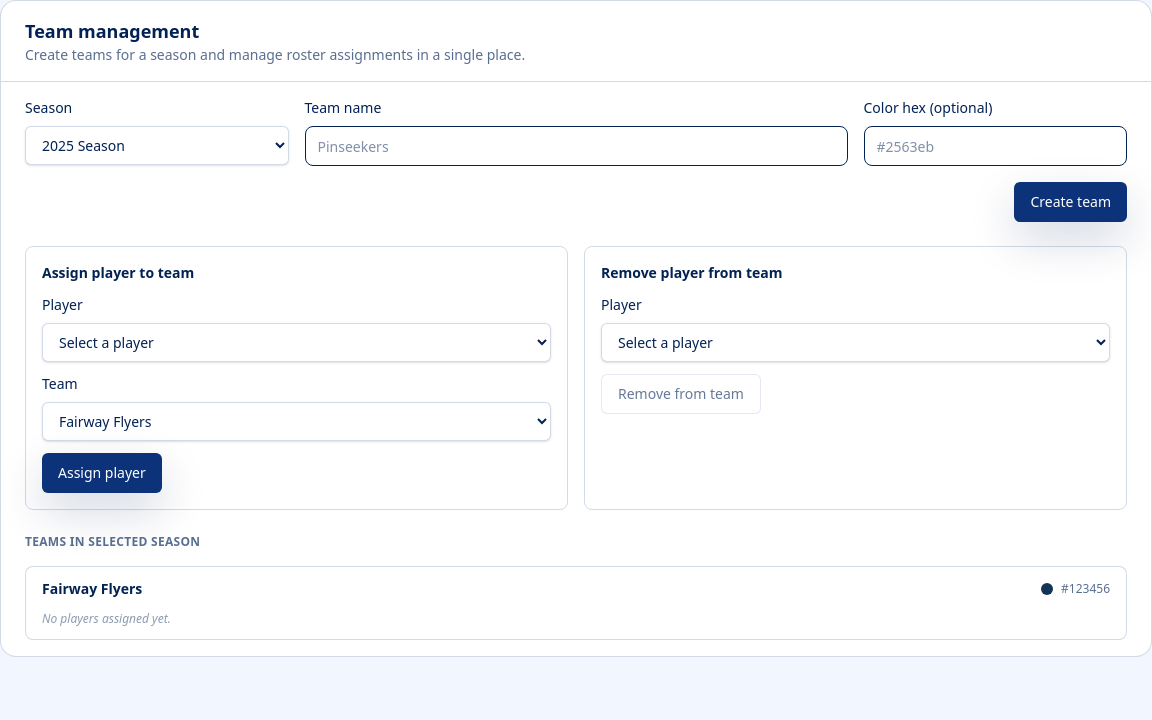
Scenario: TeamManager › creates a team via the admin API
Type "Green Jackets" into the field with placeholder "Pinseekers" at (576,146), box [304,126,848,166]
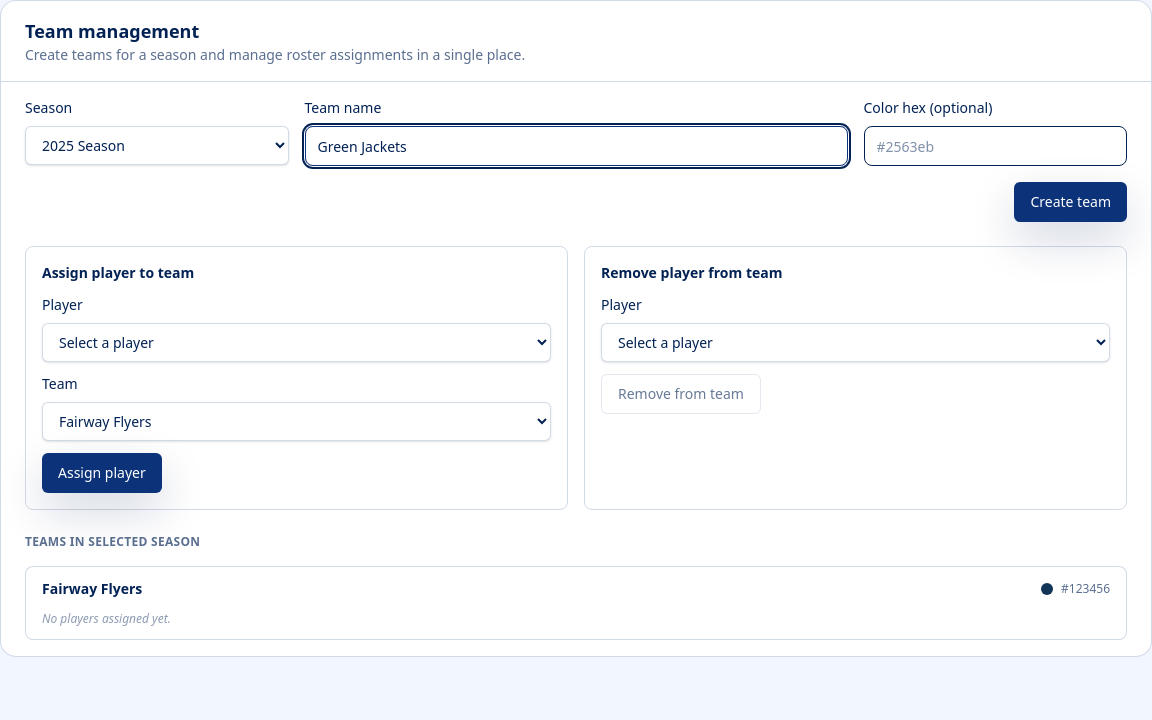
Type "#654321" into the field with placeholder "#2563eb" at (995,146), box [864,126,1127,166]
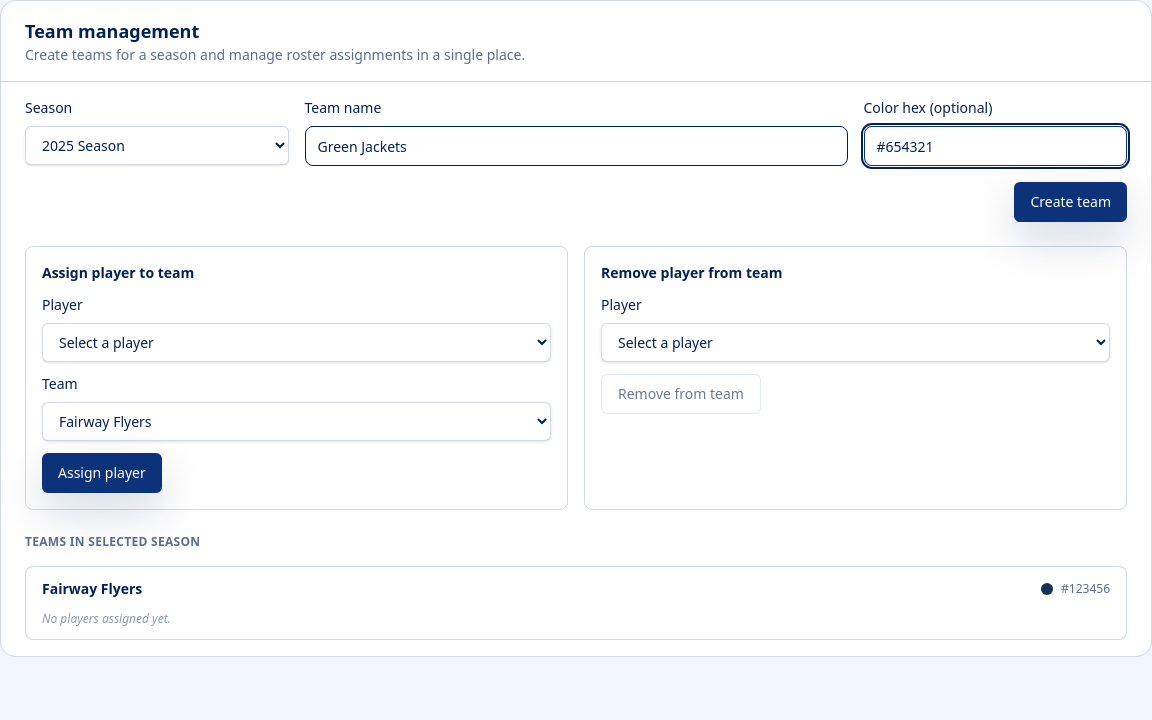
Click the button "Create team" at (1071,202), box [1014,182,1127,222]
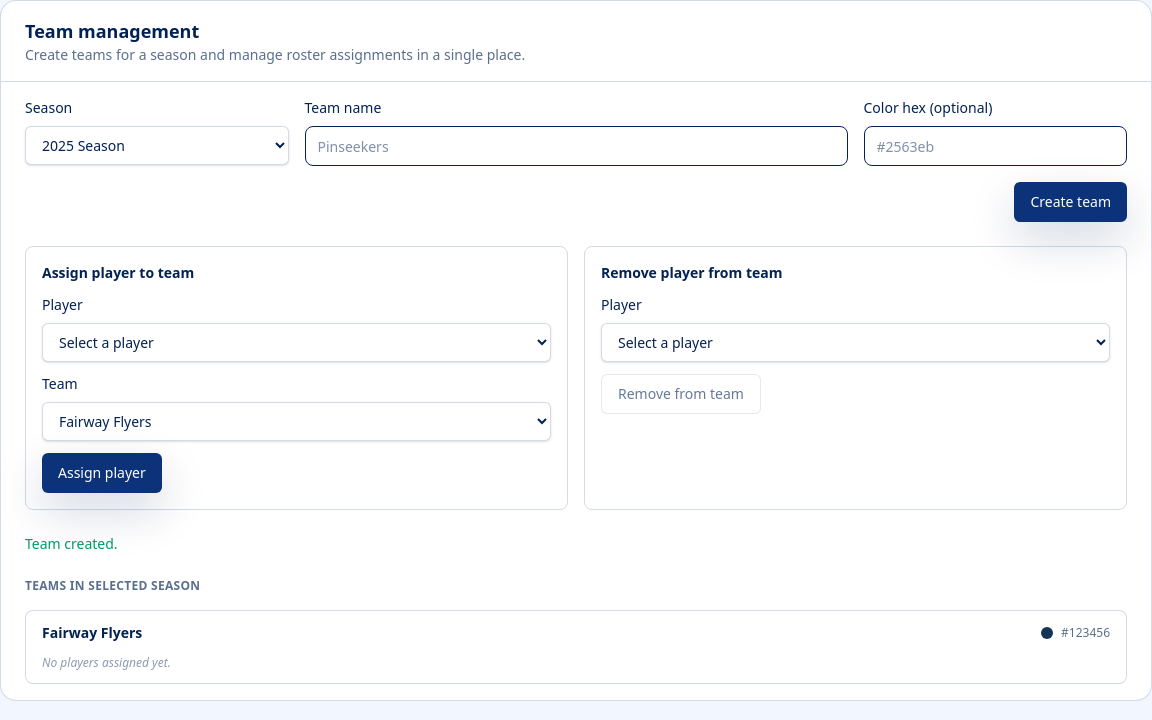
Expected: the text "Team created." is shown, [25,534,118,553]
